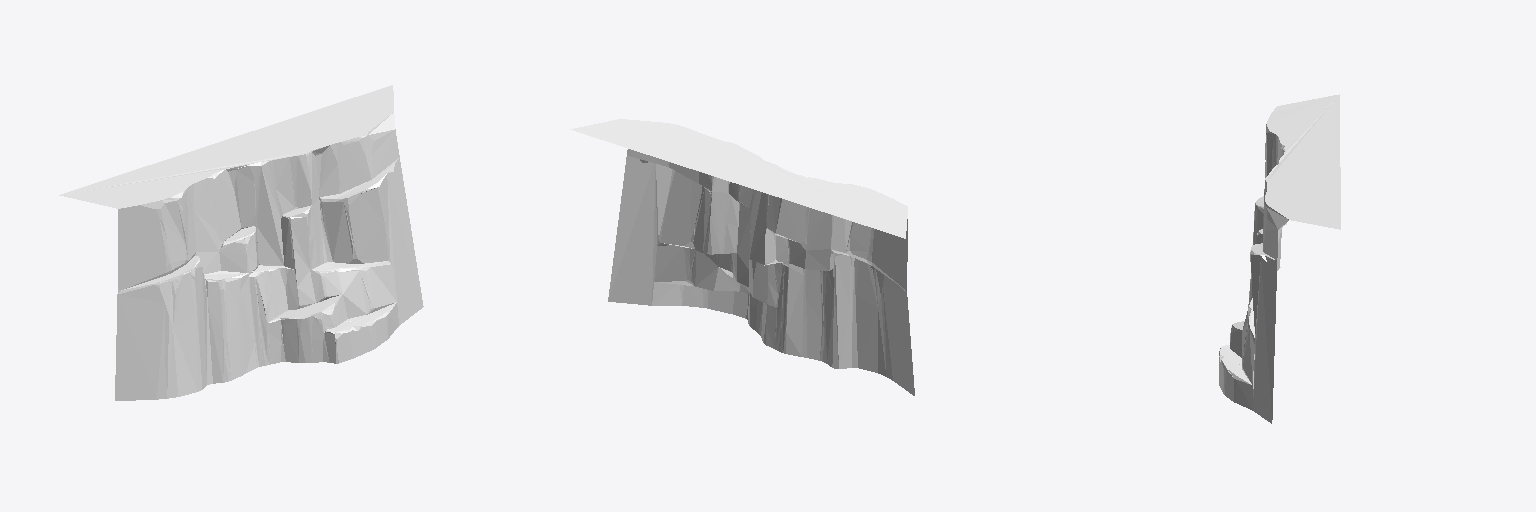
Rendered from rock7.obj.
3 views of the same model, side by side, from view 1: azimuth 30°, elevation 25°; view 2: azimuth 150°, elevation 25°; view 3: azimuth 270°, elevation 25° (orthographic).
Parts seen in each view (by area): view 1: rock7; view 2: rock7; view 3: rock7.
Part boxes in pixels (x1,y1,x2,y2): rock7: (59,85,423,400); rock7: (570,119,914,395); rock7: (1219,94,1340,423).
Size of the model in its own units: 100 by 61.49 by 31.56.